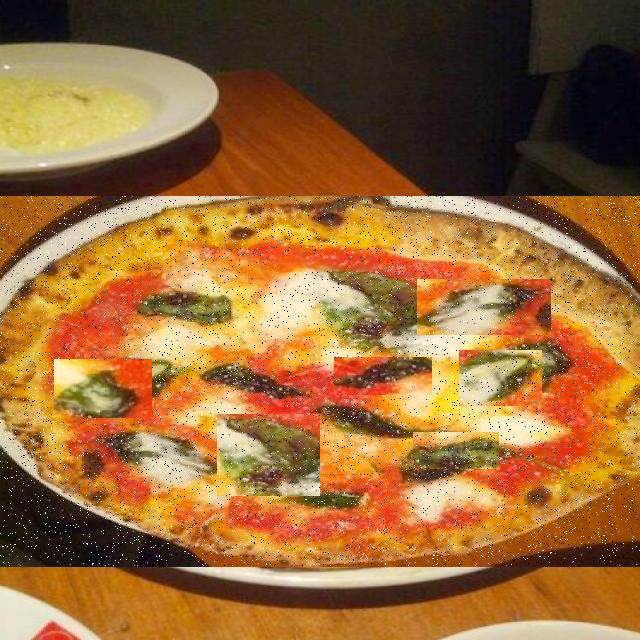Basil: (217, 415, 320, 496), (417, 280, 551, 335), (85, 277, 250, 316), (54, 360, 152, 418), (187, 317, 318, 357), (459, 351, 542, 406), (334, 358, 432, 395), (413, 433, 499, 469), (271, 254, 345, 272)
Cheese: (0, 197, 640, 566), (384, 395, 493, 500), (418, 258, 529, 339), (131, 400, 250, 465), (275, 422, 384, 492), (134, 239, 235, 287), (341, 255, 451, 298), (108, 347, 197, 394), (85, 307, 176, 351), (368, 317, 461, 359), (189, 336, 251, 398), (483, 349, 567, 391)
Pizza: (0, 197, 640, 566)
